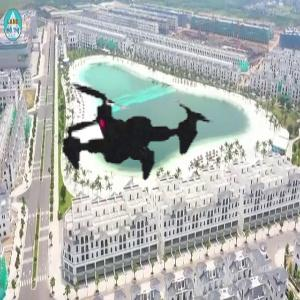drone: (21, 13, 244, 236)
